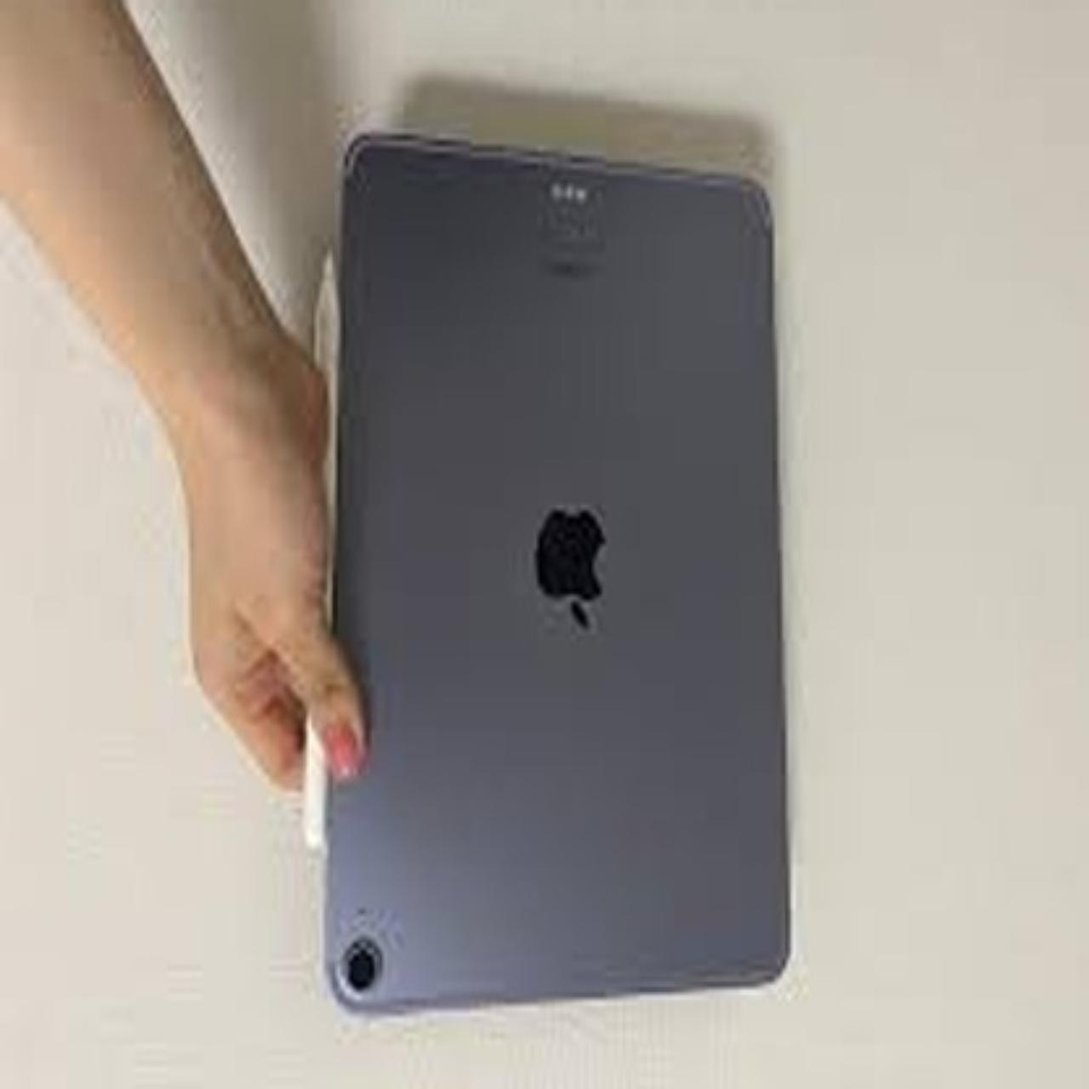Tablet_PC: (283, 110, 830, 1034)
